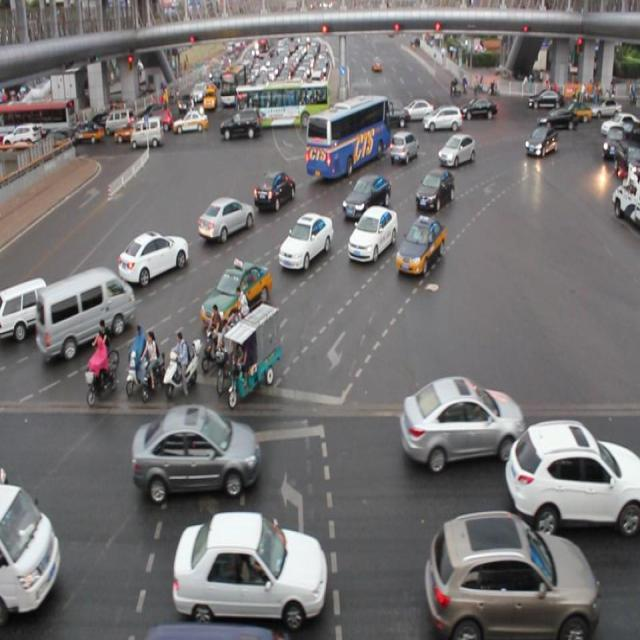car: (428, 508, 598, 640), (174, 509, 327, 624), (505, 420, 640, 536), (133, 404, 260, 499), (400, 372, 522, 465), (202, 264, 271, 331), (119, 225, 188, 286), (280, 209, 333, 275), (1, 273, 48, 346), (348, 207, 399, 264), (198, 193, 254, 244), (395, 215, 442, 272), (339, 173, 389, 211), (414, 169, 454, 211), (254, 171, 296, 211), (437, 132, 474, 164), (524, 125, 555, 157), (390, 130, 417, 162)
truck: (38, 263, 133, 364), (0, 483, 64, 624)
van: (304, 94, 389, 178)
